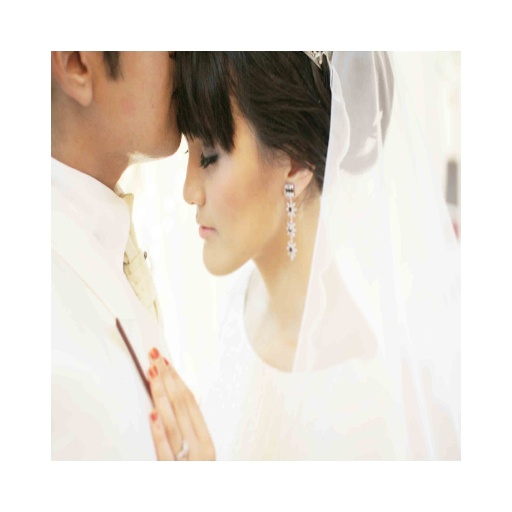hand: (147, 344, 218, 464)
